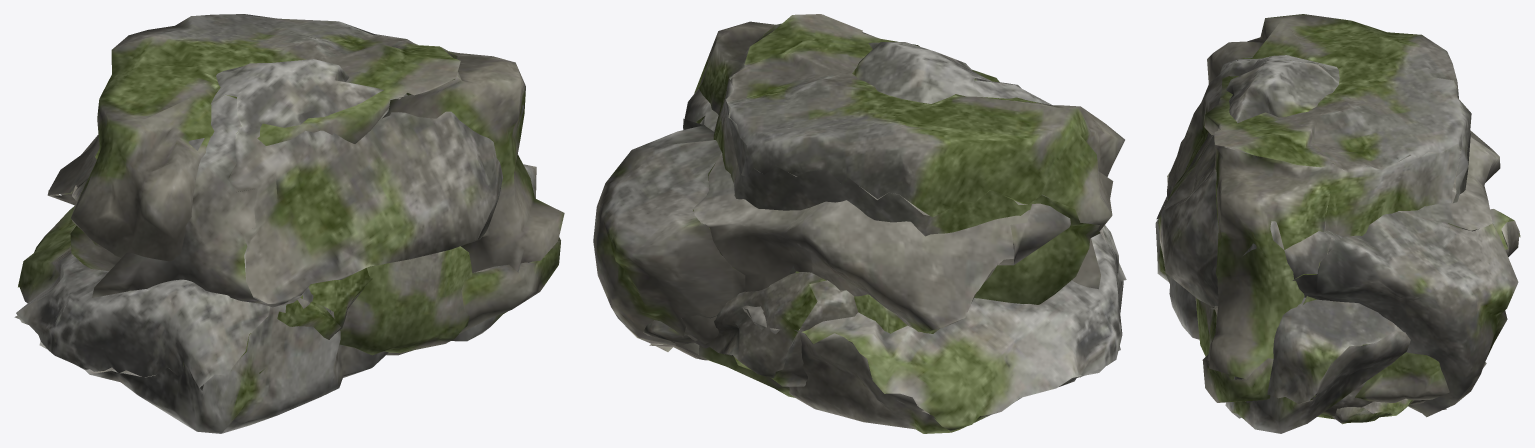
Rendered from swamp-moss-rocks.glb.
3 renders of one model, left to right at view 1: azimuth 30°, elevation 25°; view 2: azimuth 150°, elevation 25°; view 3: azimuth 270°, elevation 25°, orthographic. The views are drawn at different scales.
Visible parts, largest first — view 1: rock_moss_set_02_rock13, rock_moss_set_02_rock11, rock_moss_set_02_rock10, rock_moss_set_02_rock07, rock_moss_set_02_rock12; view 2: rock_moss_set_02_rock13, rock_moss_set_02_rock11, rock_moss_set_02_rock10, rock_moss_set_02_rock12, rock_moss_set_02_rock07; view 3: rock_moss_set_02_rock13, rock_moss_set_02_rock11, rock_moss_set_02_rock10, rock_moss_set_02_rock07, rock_moss_set_02_rock09, rock_moss_set_02_rock12.
Boxes of the visible parts, x1,y1,x2,y2 form: rock_moss_set_02_rock13: (70, 14, 564, 355); rock_moss_set_02_rock11: (47, 59, 524, 307); rock_moss_set_02_rock10: (14, 164, 536, 433); rock_moss_set_02_rock07: (331, 246, 472, 355); rock_moss_set_02_rock12: (183, 268, 372, 373); rock_moss_set_02_rock13: (694, 14, 1124, 304); rock_moss_set_02_rock11: (593, 42, 1100, 360); rock_moss_set_02_rock10: (707, 192, 1126, 433); rock_moss_set_02_rock12: (643, 272, 858, 386); rock_moss_set_02_rock07: (671, 209, 912, 397); rock_moss_set_02_rock13: (1202, 14, 1471, 402); rock_moss_set_02_rock11: (1158, 55, 1518, 417); rock_moss_set_02_rock10: (1155, 196, 1520, 433); rock_moss_set_02_rock07: (1195, 297, 1449, 402); rock_moss_set_02_rock09: (1332, 398, 1413, 424); rock_moss_set_02_rock12: (1312, 362, 1486, 419).
Size of the model in its own units: 2.2 by 1.31 by 1.55.
Materials: 1 (1 with a texture image).
